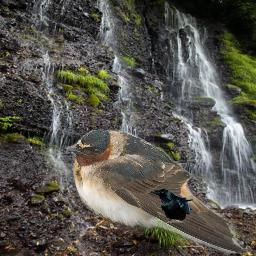Crow: (150, 189, 193, 223)
Swallow: (66, 129, 249, 254)
